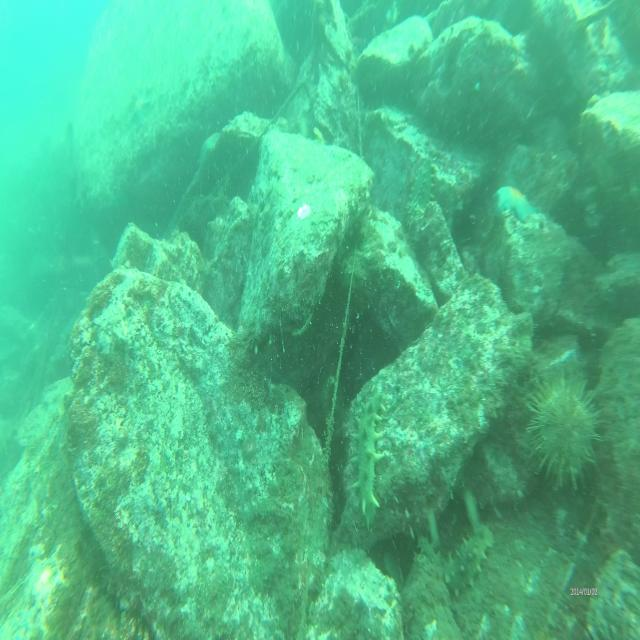echinus: (524, 359, 606, 501)
holothurian: (352, 390, 393, 516), (442, 520, 496, 600), (408, 153, 436, 233)
starfish: (493, 183, 539, 226)
